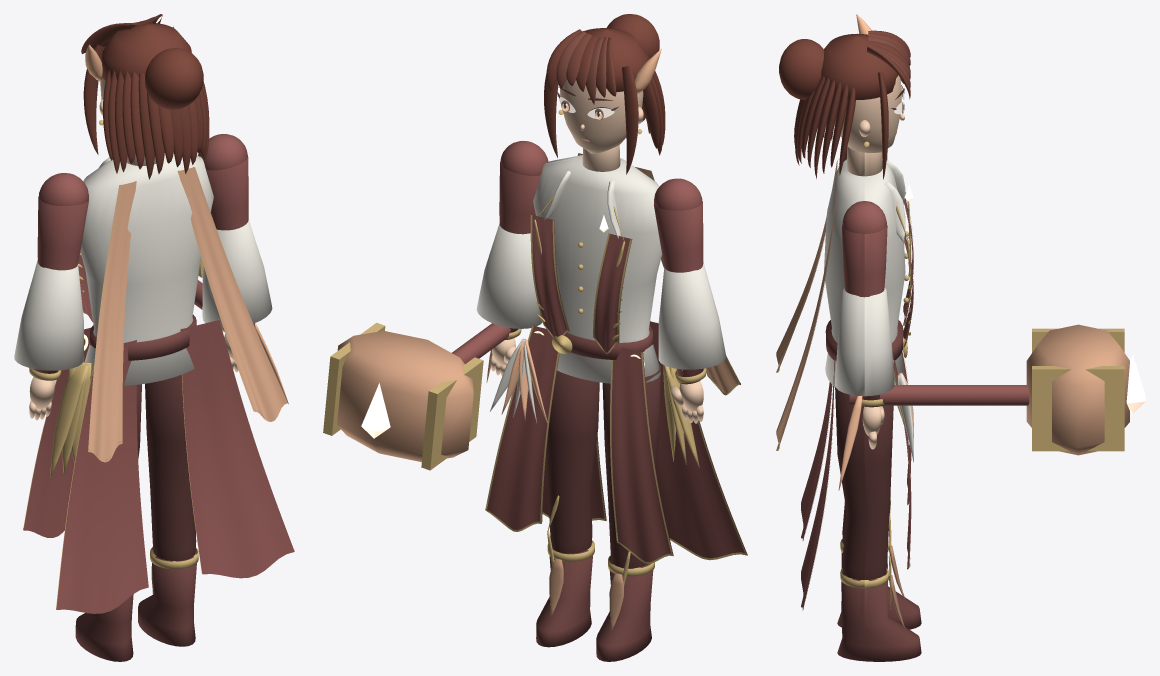
File: character_15.glb
The picture shows the model from 3 angles, left to right: view 1: azimuth 30°, elevation 25°; view 2: azimuth 150°, elevation 25°; view 3: azimuth 270°, elevation 25°; orthographic projection. The views are drawn at different scales.
Visible parts, largest first — view 1: _MeshInstance3D_4430, _MeshInstance3D_4440, _MeshInstance3D_4436, _MeshInstance3D_4489, _MeshInstance3D_4463, _MeshInstance3D_4452, _MeshInstance3D_4450, _MeshInstance3D_4459, _MeshInstance3D_4458, _MeshInstance3D_4434, _MeshInstance3D_4464, _MeshInstance3D_4467 (+10 smaller); view 2: _MeshInstance3D_4430, _MeshInstance3D_4470, _MeshInstance3D_4434, _MeshInstance3D_4463, _MeshInstance3D_4436, _MeshInstance3D_4438, _MeshInstance3D_4489, _MeshInstance3D_4459, _MeshInstance3D_4468, _MeshInstance3D_4467, _MeshInstance3D_4458, _MeshInstance3D_4473 (+23 smaller); view 3: _MeshInstance3D_4489, _MeshInstance3D_4470, _MeshInstance3D_4463, _MeshInstance3D_4430, _MeshInstance3D_4467, _MeshInstance3D_4468, _MeshInstance3D_4473, _MeshInstance3D_4464, _MeshInstance3D_4476, _MeshInstance3D_4440, _MeshInstance3D_4490, _MeshInstance3D_4491 (+11 smaller).
Boxes of the visible parts, x1=… form: _MeshInstance3D_4430: x1=80, y1=152, x2=213, y2=385; _MeshInstance3D_4440: x1=180, y1=320, x2=294, y2=578; _MeshInstance3D_4436: x1=56, y1=340, x2=148, y2=613; _MeshInstance3D_4489: x1=81, y1=14, x2=209, y2=173; _MeshInstance3D_4463: x1=145, y1=375, x2=196, y2=561; _MeshInstance3D_4452: x1=178, y1=167, x2=287, y2=421; _MeshInstance3D_4450: x1=88, y1=181, x2=136, y2=462; _MeshInstance3D_4459: x1=14, y1=259, x2=83, y2=370; _MeshInstance3D_4458: x1=33, y1=173, x2=88, y2=380; _MeshInstance3D_4434: x1=23, y1=327, x2=90, y2=537; _MeshInstance3D_4464: x1=138, y1=548, x2=197, y2=646; _MeshInstance3D_4467: x1=194, y1=134, x2=255, y2=327; _MeshInstance3D_4430: x1=490, y1=155, x2=662, y2=422; _MeshInstance3D_4470: x1=337, y1=330, x2=473, y2=462; _MeshInstance3D_4434: x1=611, y1=347, x2=673, y2=561; _MeshInstance3D_4463: x1=546, y1=370, x2=599, y2=553; _MeshInstance3D_4436: x1=649, y1=321, x2=746, y2=558; _MeshInstance3D_4438: x1=487, y1=325, x2=559, y2=529; _MeshInstance3D_4489: x1=544, y1=14, x2=663, y2=174; _MeshInstance3D_4459: x1=658, y1=262, x2=726, y2=369; _MeshInstance3D_4468: x1=476, y1=223, x2=542, y2=328; _MeshInstance3D_4467: x1=452, y1=141, x2=548, y2=363; _MeshInstance3D_4458: x1=654, y1=178, x2=703, y2=384; _MeshInstance3D_4473: x1=323, y1=322, x2=521, y2=470; _MeshInstance3D_4489: x1=779, y1=30, x2=910, y2=179; _MeshInstance3D_4470: x1=1026, y1=324, x2=1129, y2=455; _MeshInstance3D_4463: x1=835, y1=387, x2=893, y2=579; _MeshInstance3D_4430: x1=824, y1=159, x2=913, y2=462; _MeshInstance3D_4467: x1=842, y1=201, x2=1029, y2=407; _MeshInstance3D_4468: x1=834, y1=287, x2=894, y2=396; _MeshInstance3D_4473: x1=861, y1=328, x2=1124, y2=451; _MeshInstance3D_4464: x1=837, y1=571, x2=921, y2=661; _MeshInstance3D_4476: x1=834, y1=75, x2=904, y2=152; _MeshInstance3D_4440: x1=801, y1=353, x2=834, y2=609; _MeshInstance3D_4490: x1=795, y1=78, x2=848, y2=167; _MeshInstance3D_4491: x1=794, y1=75, x2=841, y2=173.
Bounding box in the file's own units: 1.21 × 2.44 × 1.36.
